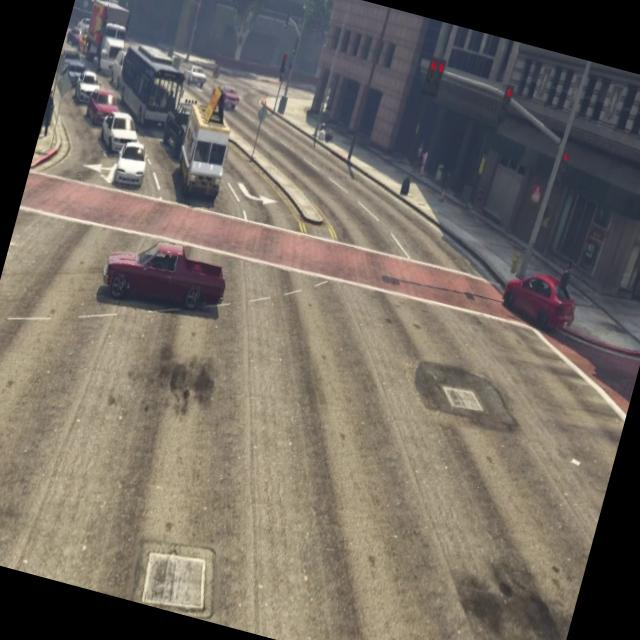Red-Signal: (416, 52, 452, 104), (548, 139, 578, 199), (493, 74, 522, 125)
